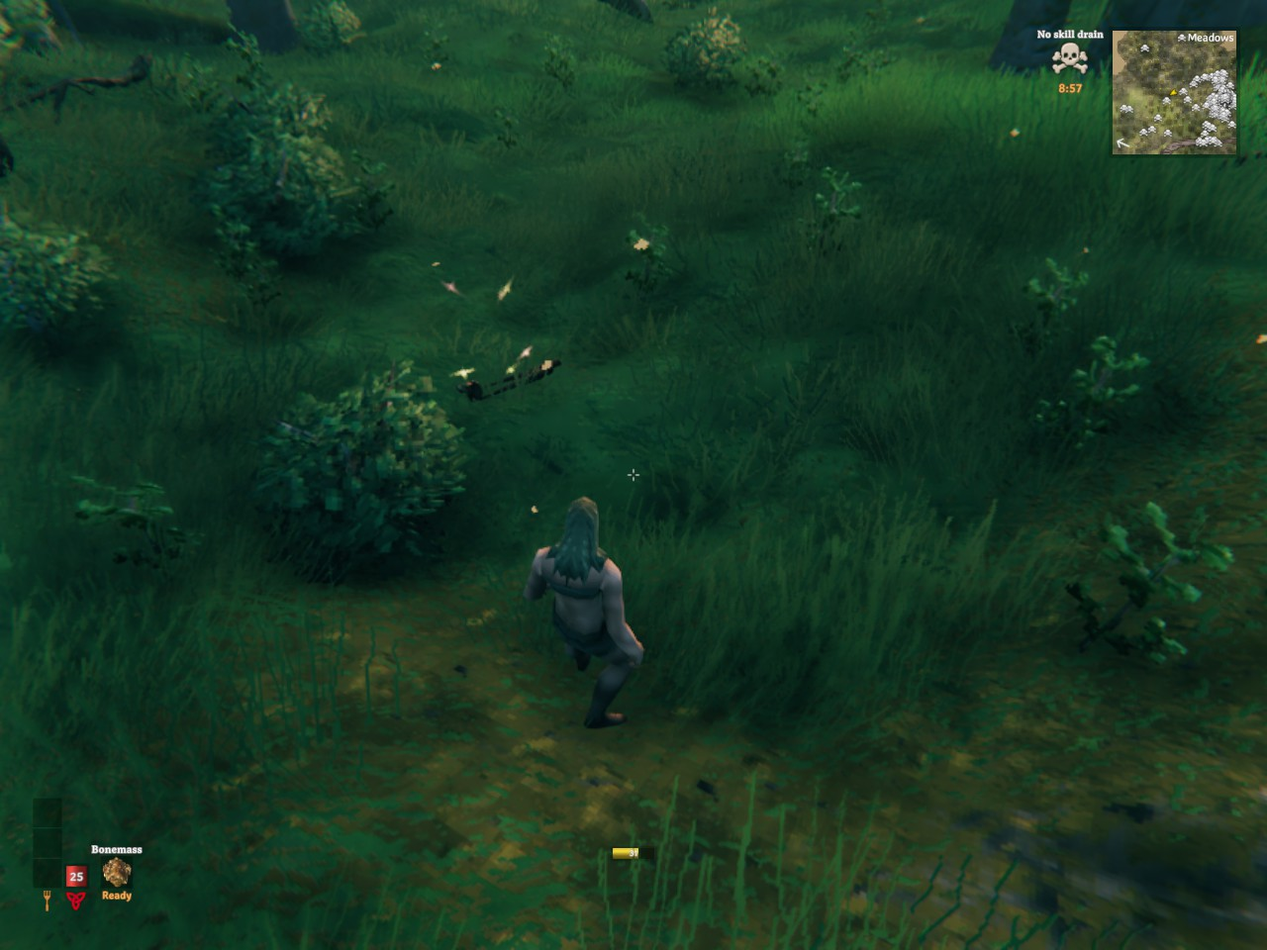Club: (456, 359, 560, 401)
